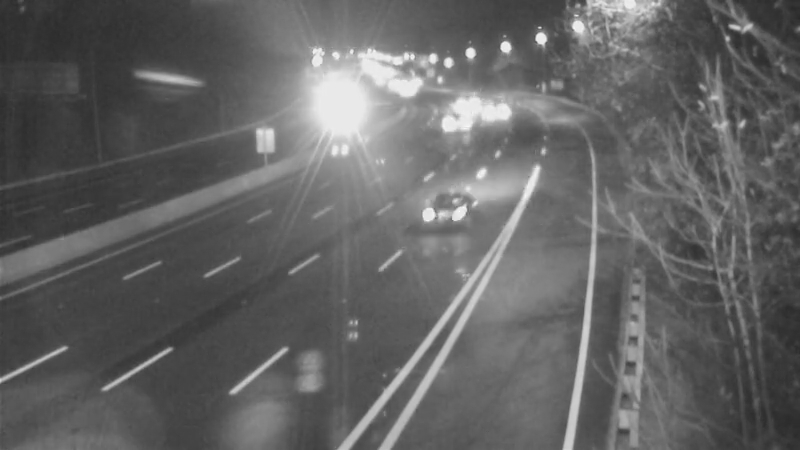vehicle: (399, 171, 479, 251), (438, 76, 488, 126), (465, 87, 515, 137), (429, 99, 479, 149), (306, 93, 356, 143)
